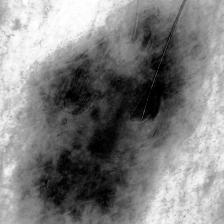Benign Marking or Mole: (17, 14, 199, 224)
